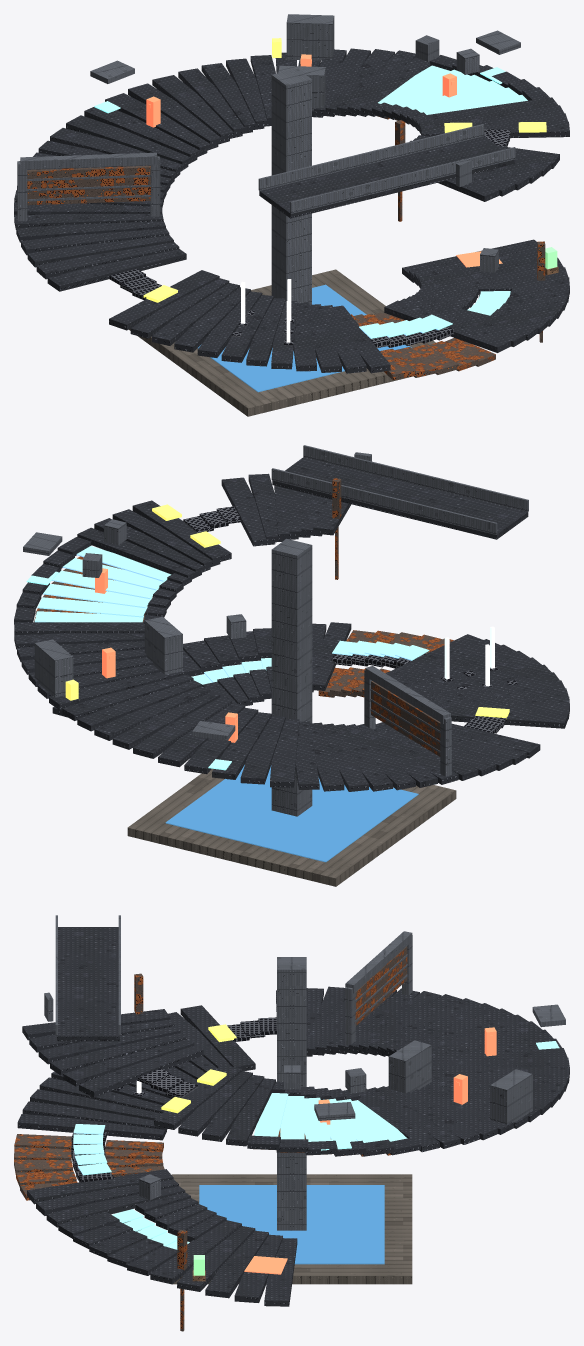
The model's file is channels.glb.
3 renders of one model, top to bottom at view 1: azimuth 30°, elevation 25°; view 2: azimuth 150°, elevation 25°; view 3: azimuth 270°, elevation 25°, orthographic.
Parts seen in each view (by area): view 1: Downpipe, WellFloor, Overlook, S4_sluice_gate, OvRail_-17, OvRail_17, Pool, S6_lure_wall33, S3_plate_far_0, S5_patrol_deck_1, S4_sluice_header, S5_patrol_deck_5 (+66 smaller); view 2: Pool, WellFloor, Downpipe, Overlook, OvRail_17, OvRail_-17, S4_sluice_gate, S6_lure_wall-33, S6_lure_wall33, S5_patrol_deck_5, Conn_16_0, Conn_14_2 (+61 smaller); view 3: Pool, WellFloor, Overlook, Downpipe, S6_lure_wall33, S8_double_plate_far_0, S6_lure_wall-33, Conn_4_0, Conn_0_2, Conn_2_2, Conn_0_4, Conn_18_0 (+67 smaller).
Part boxes in pixels (box(x1,y1,x2,y2)): Downpipe: box(271, 68, 311, 304); WellFloor: box(129, 269, 435, 416); Overlook: box(259, 136, 515, 218); S4_sluice_gate: box(27, 165, 150, 205); OvRail_-17: box(258, 124, 484, 190); OvRail_17: box(290, 147, 515, 213); Pool: box(198, 284, 411, 392); S6_lure_wall33: box(286, 14, 334, 60); S3_plate_far_0: box(47, 249, 186, 291); S5_patrol_deck_1: box(66, 115, 197, 165); S4_sluice_header: box(20, 152, 157, 169); S5_patrol_deck_5: box(152, 75, 242, 139); Pool: box(165, 765, 418, 862); WellFloor: box(127, 768, 456, 886); Downpipe: box(271, 538, 312, 816); Overlook: box(272, 457, 528, 539); OvRail_17: box(303, 445, 528, 511); OvRail_-17: box(271, 468, 497, 534); S4_sluice_gate: box(371, 681, 440, 756); S6_lure_wall-33: box(144, 616, 182, 674); S6_lure_wall33: box(34, 639, 73, 697); S5_patrol_deck_5: box(133, 697, 232, 758); Conn_16_0: box(77, 527, 201, 579); Conn_14_2: box(14, 622, 144, 635); Pool: box(199, 1185, 384, 1264); WellFloor: box(171, 1174, 412, 1284); Overlook: box(57, 927, 119, 1041); Downpipe: box(277, 957, 306, 1230); S6_lure_wall33: box(490, 1069, 532, 1124); S8_double_plate_far_0: box(79, 1045, 203, 1097); S6_lure_wall-33: box(388, 1040, 431, 1093); Conn_4_0: box(17, 1114, 166, 1140); Conn_0_2: box(205, 1230, 268, 1298); Conn_2_2: box(27, 1169, 173, 1204); Conn_0_4: box(150, 1220, 241, 1284); Conn_18_0: box(63, 1039, 194, 1086).
Bounding box in the file's own units: 30.12 × 17.4 × 30.02.
15 materials, 8 textured.
